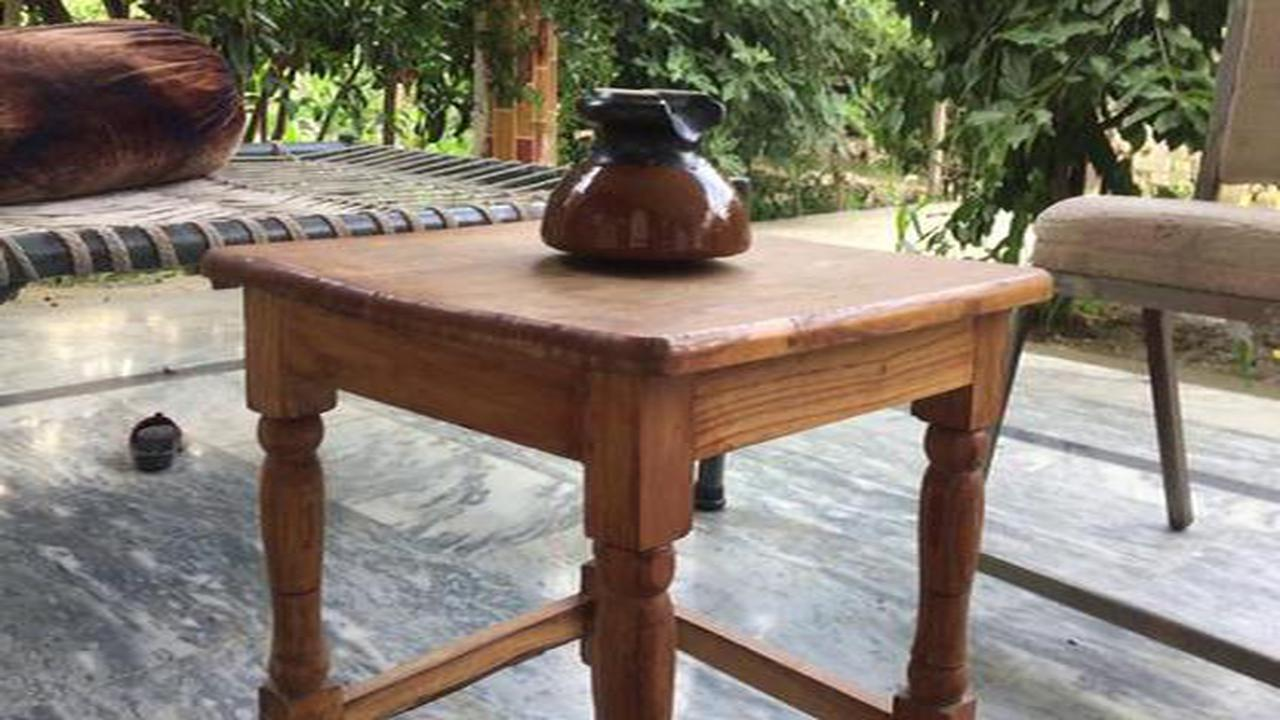insulator_pin: (521, 64, 764, 272)
